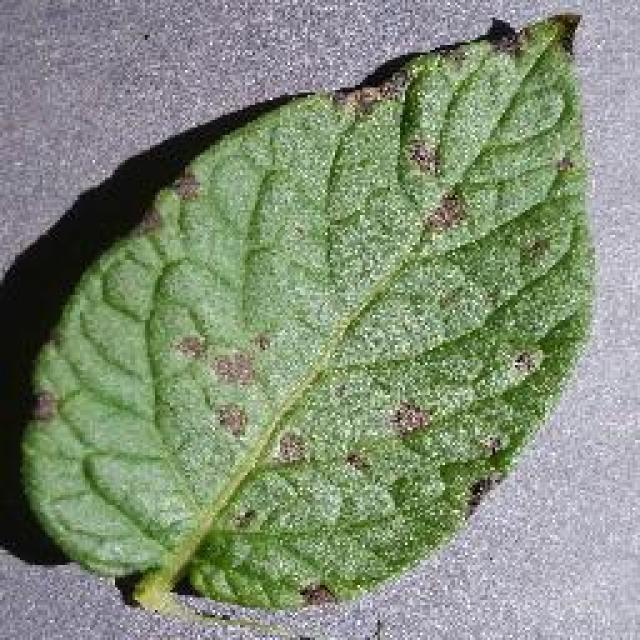early_blight: (12, 8, 600, 628)
